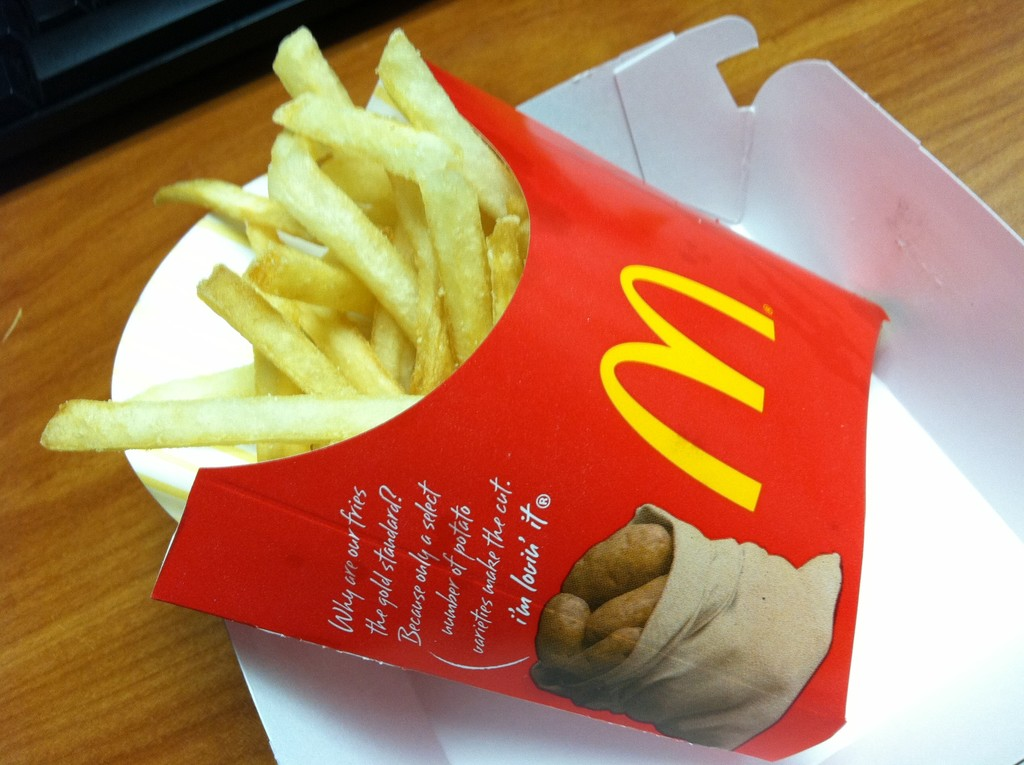French fries: (39, 15, 535, 464)
